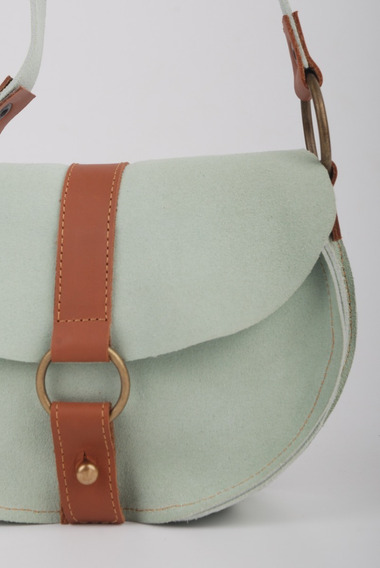cartera: (4, 2, 357, 528)
